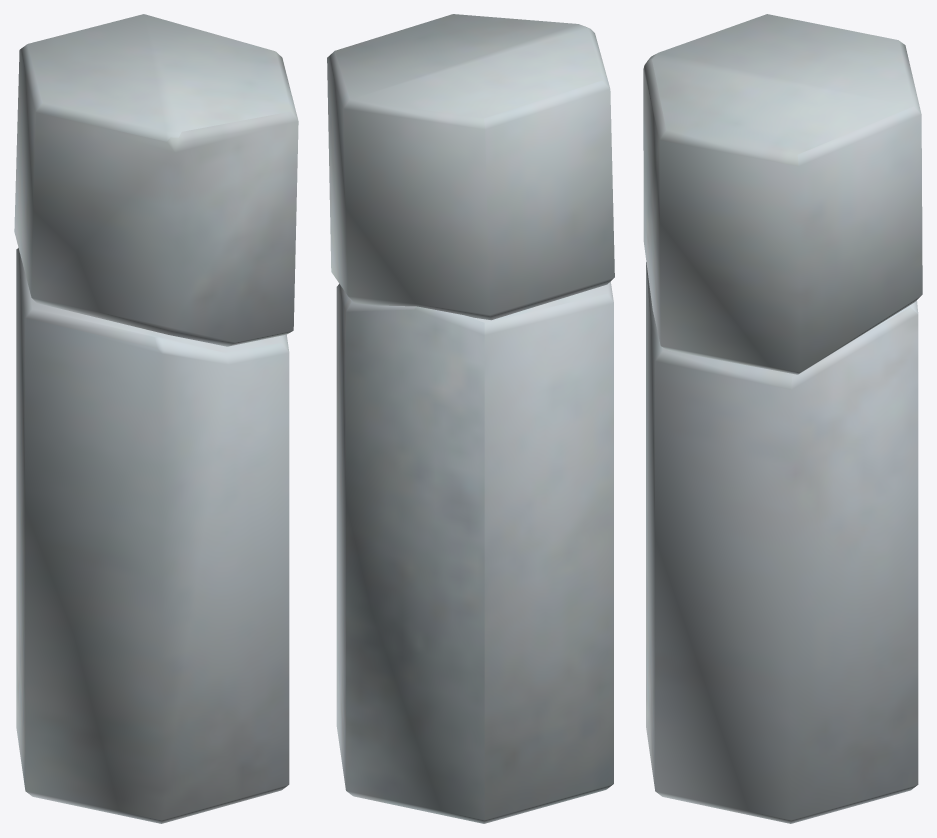
Rendered from P_RockHexic_Piece12.obj.
3 views of the same model, side by side, from view 1: azimuth 30°, elevation 25°; view 2: azimuth 150°, elevation 25°; view 3: azimuth 270°, elevation 25° (orthographic).
Bounding box in the file's own units: 4.51 × 11.1 × 4.06.
